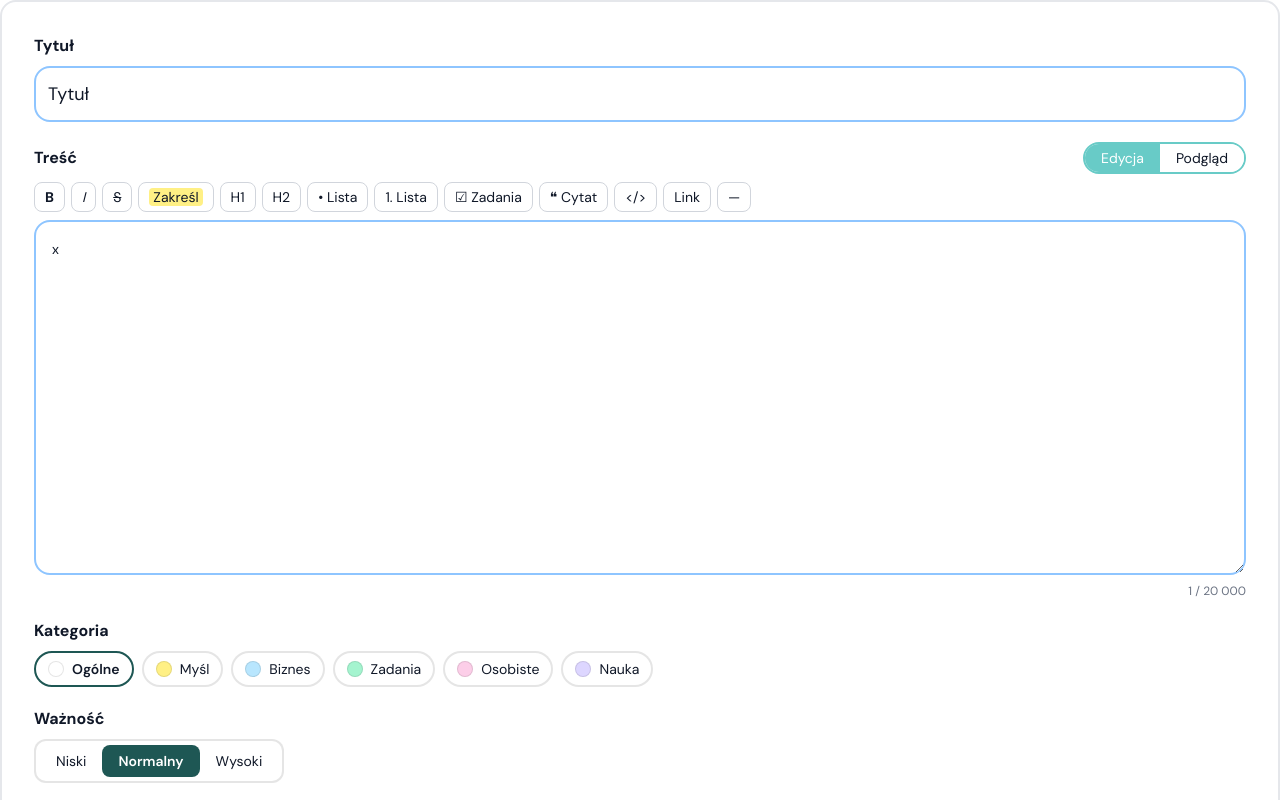
Scenario: NoteEditor — pasek formatowania › przycisk Zakreślacz
The image size is (1280, 800).
Step 1. Click the button titled "Zakreślacz" → click(176, 197), box [138,182,214,212]
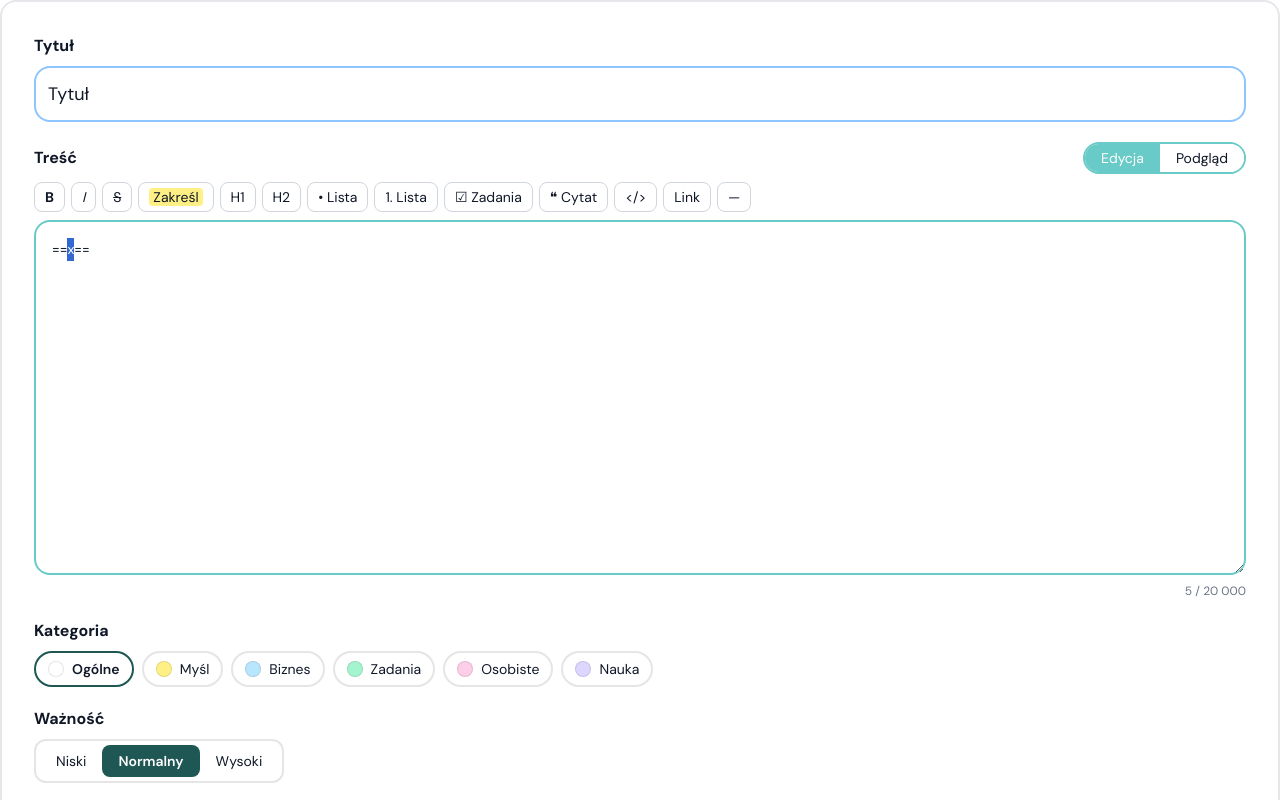
Expected: the text box with placeholder "Zacznij pisać" holds "==x==", [34,220,1246,574]
